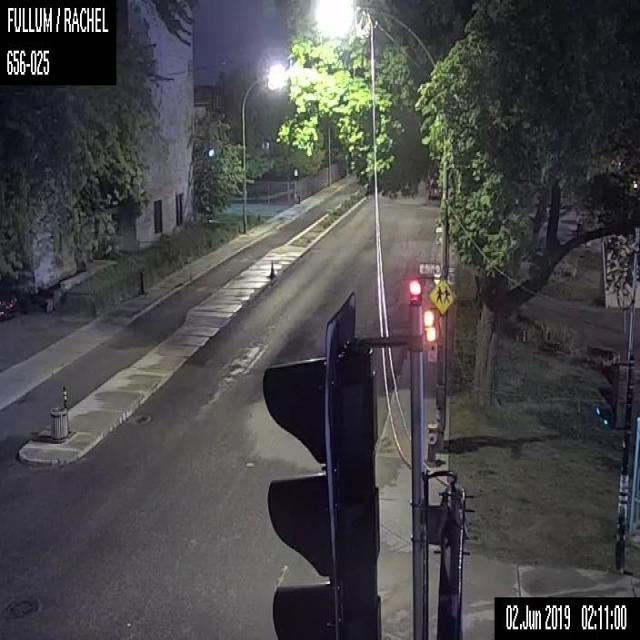construction: (268, 258, 274, 276)
vehicle: (0, 290, 17, 320), (428, 178, 441, 199)
